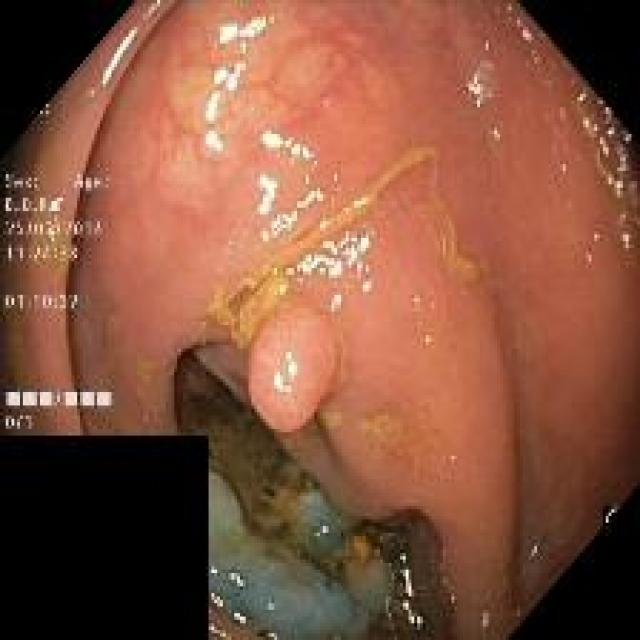Polyps: (248, 302, 340, 432)
